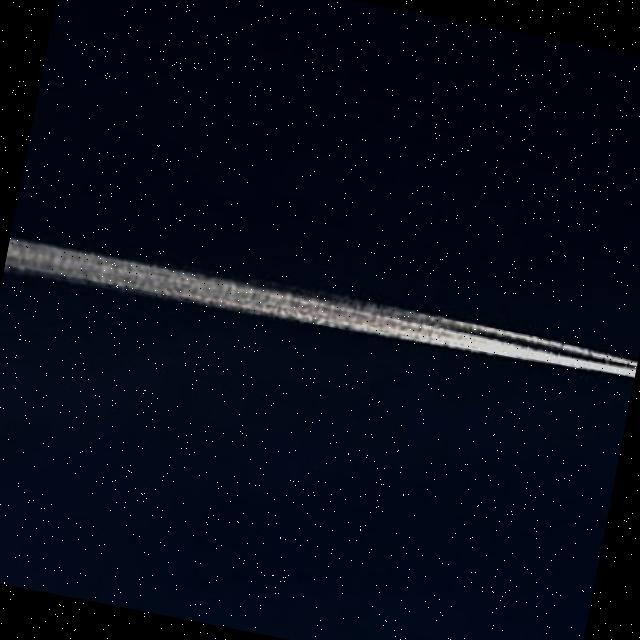Ct: (1, 72, 640, 544)
